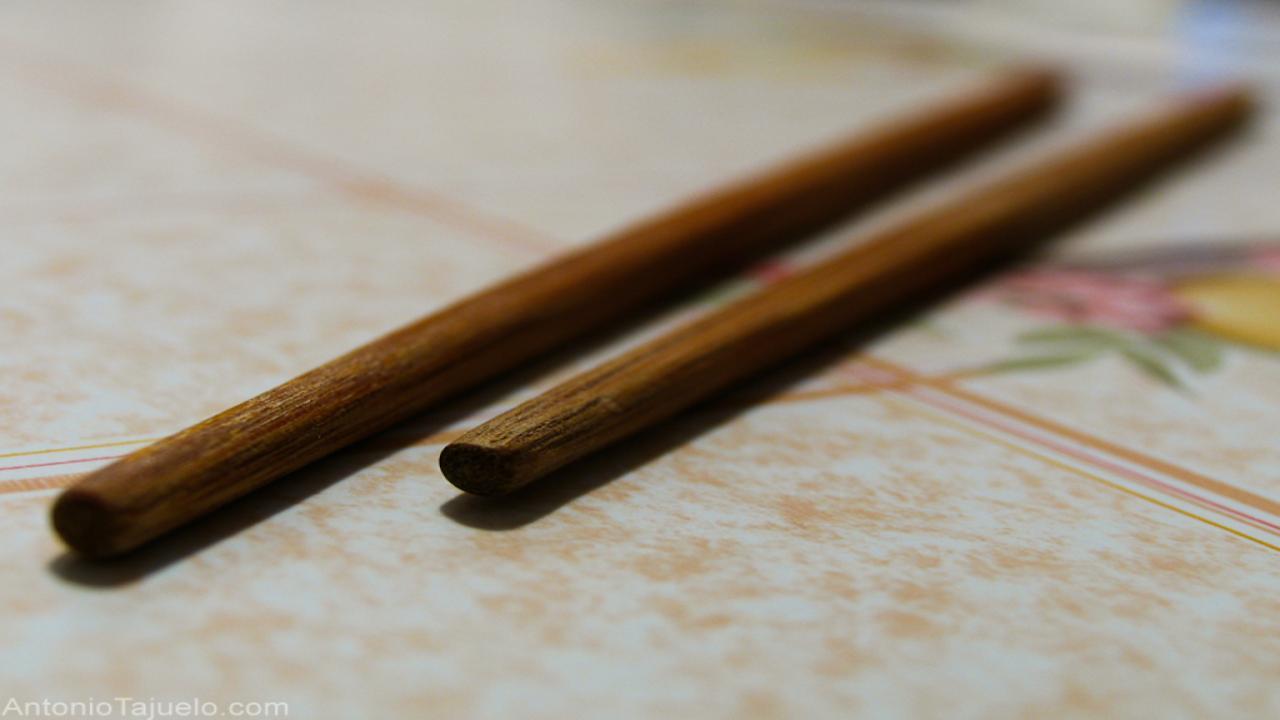chopstick: (44, 60, 1258, 570)
